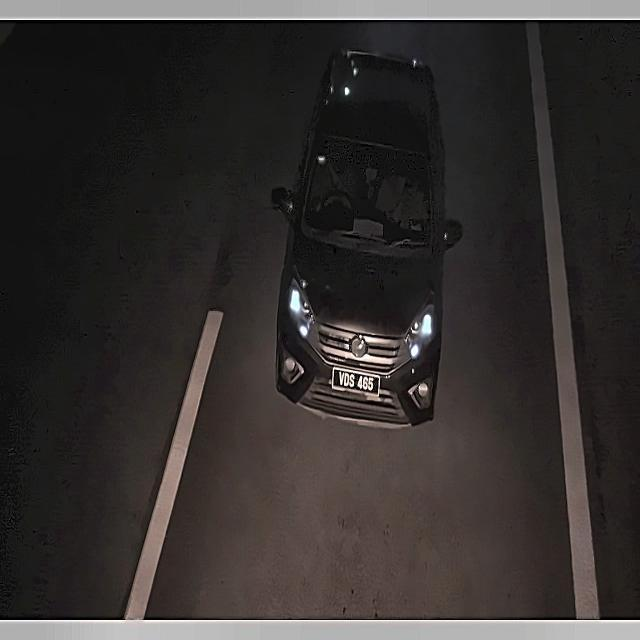car: (326, 356, 386, 405)
